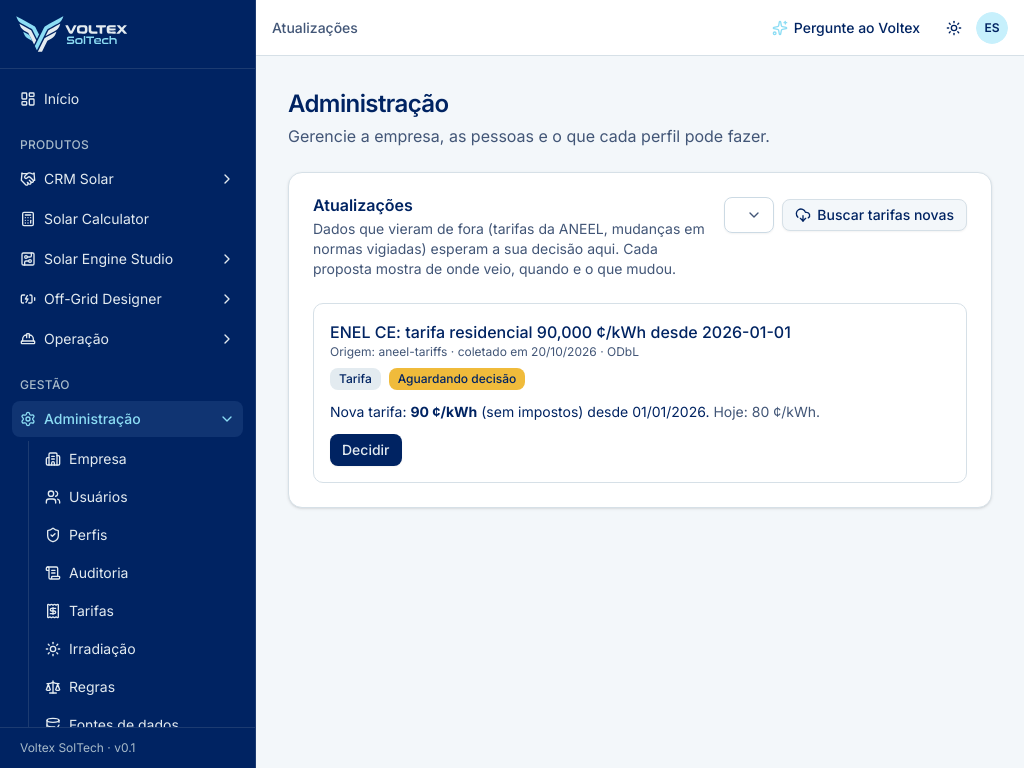
Administração → Atualizações › proposta de tarifa mostra o valor novo e o atual; busca tarifas novas
Expected: the text "90 ¢/kWh" is shown, left=410, top=403, right=477, bottom=420
Expected: the text "Hoje: 80 ¢/kWh." is shown, left=713, top=403, right=820, bottom=420
Click the button "Buscar tarifas novas". click: (875, 215)
box: left=782, top=199, right=967, bottom=231
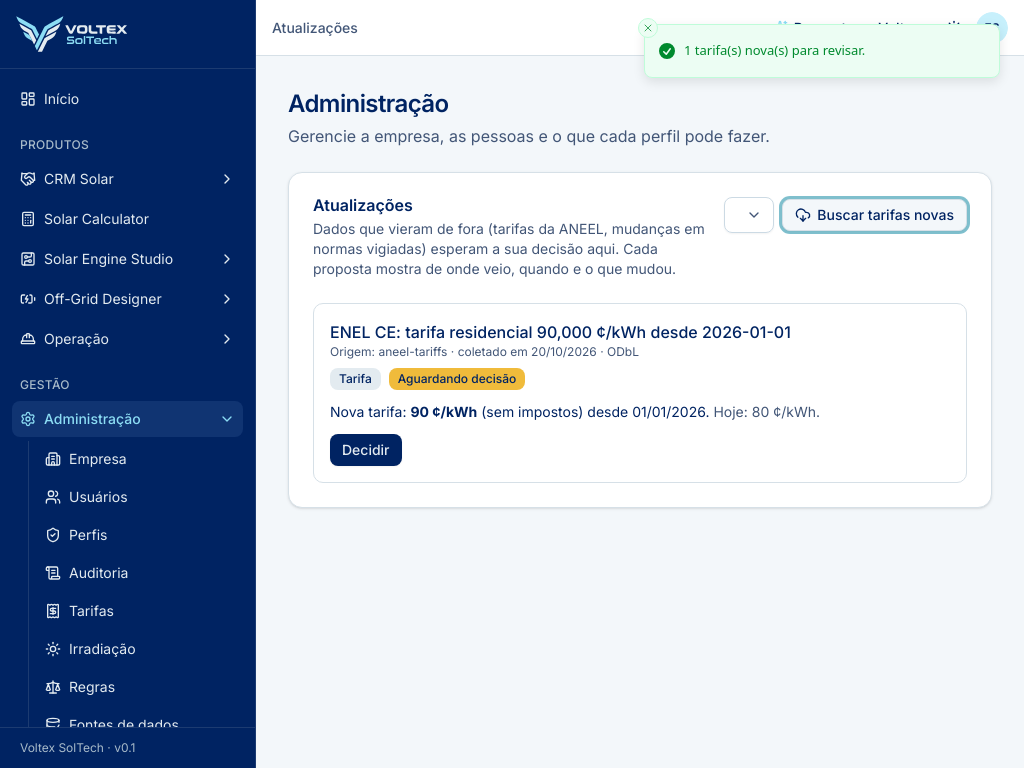
Now the text "1 tarifa(s) nova(s) para revisar." is shown, box left=684, top=41, right=865, bottom=60
